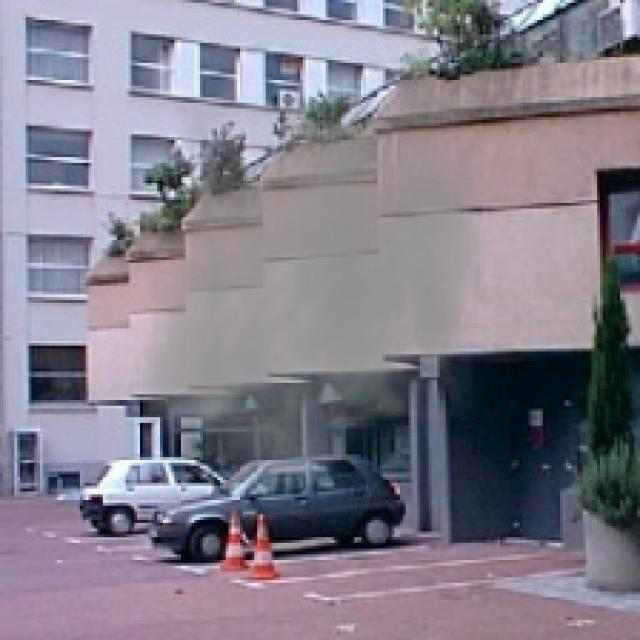smoke: (143, 94, 486, 514)
